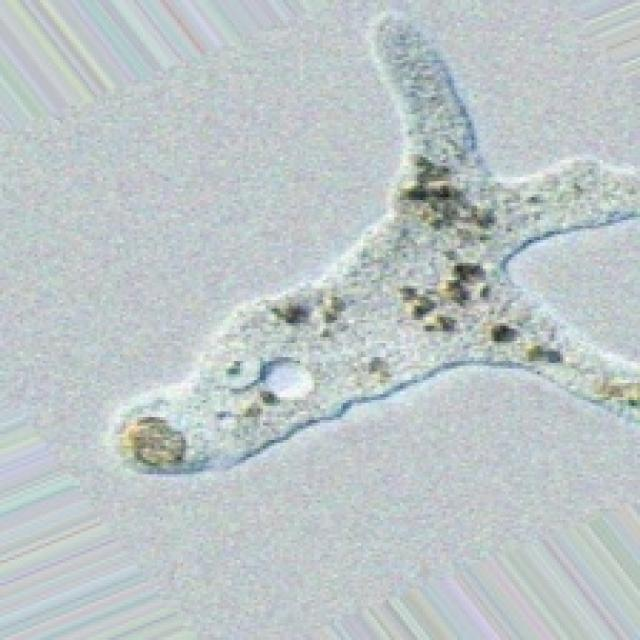Amoeba: (109, 6, 637, 477)
